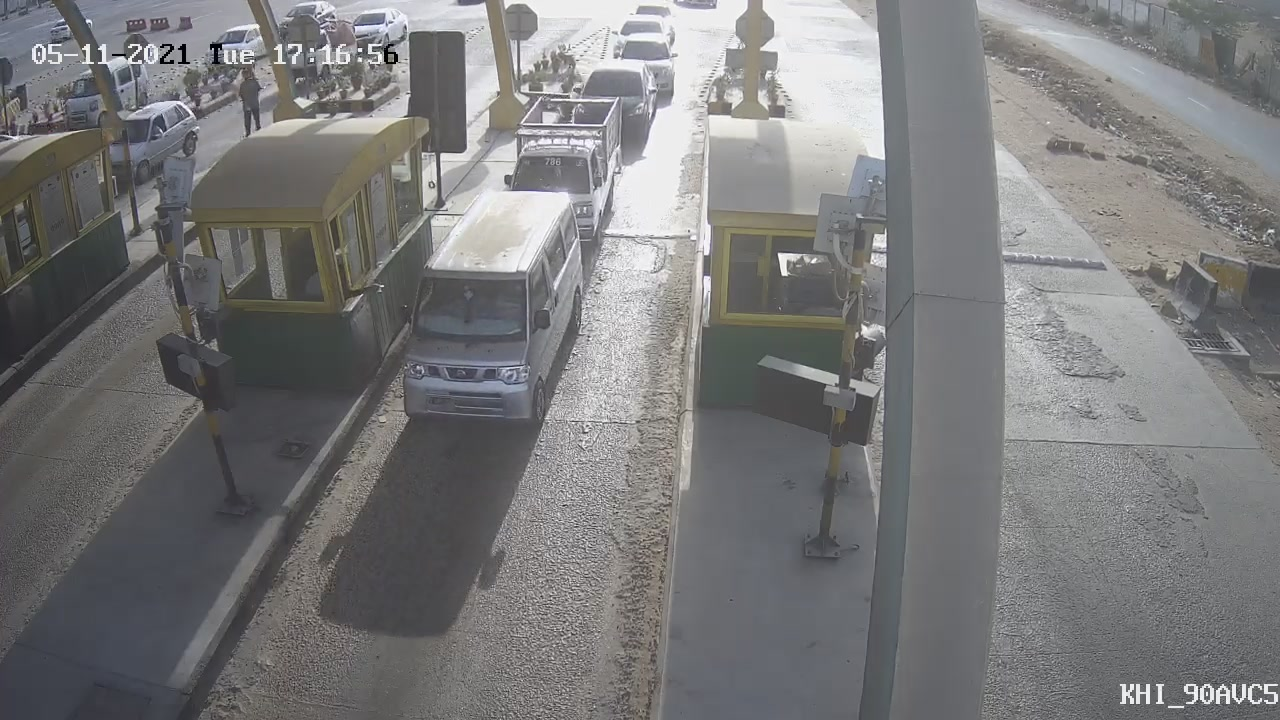F1: (372, 173, 603, 451)
